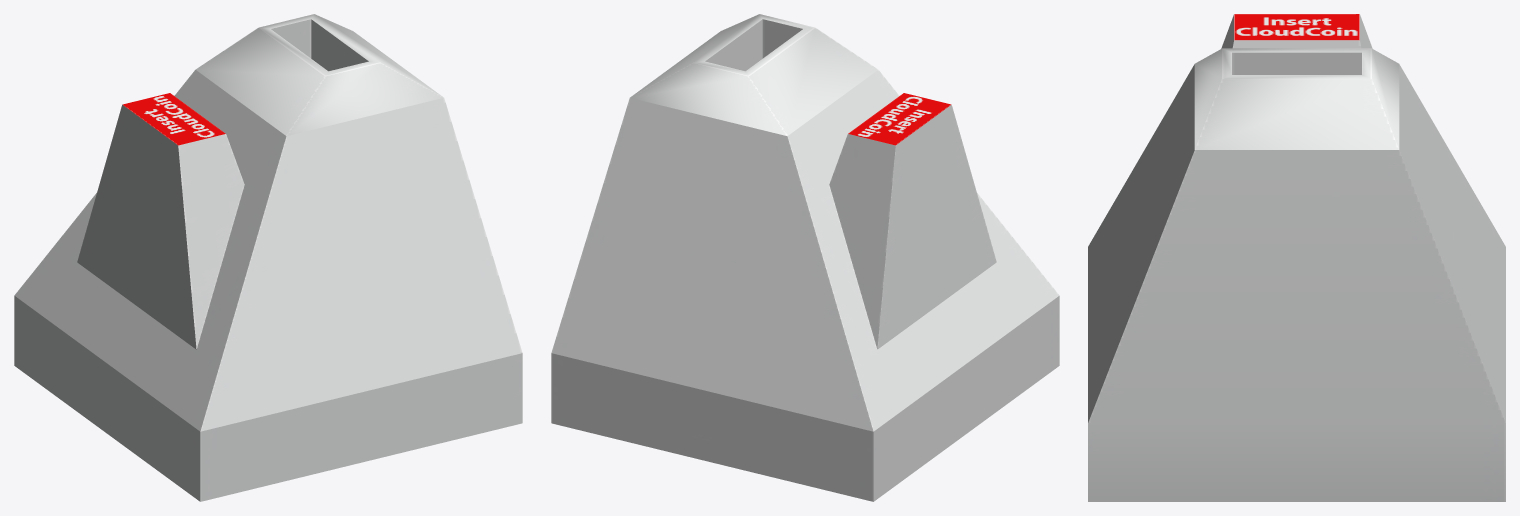
File: CoinAcceptor 1.fbx
3 views of the same model, side by side, from view 1: azimuth 30°, elevation 25°; view 2: azimuth 150°, elevation 25°; view 3: azimuth 270°, elevation 25° (orthographic). The views are drawn at different scales.
Visible parts, largest first — view 1: CoinAcceptor; view 2: CoinAcceptor; view 3: CoinAcceptor.
Boxes of the visible parts, x1,y1,x2,y2 form: CoinAcceptor: (14,14,522,501); CoinAcceptor: (551,14,1059,501); CoinAcceptor: (1088,14,1505,501).
Bounding box in the file's own units: 98.83 × 98.71 × 98.83.
